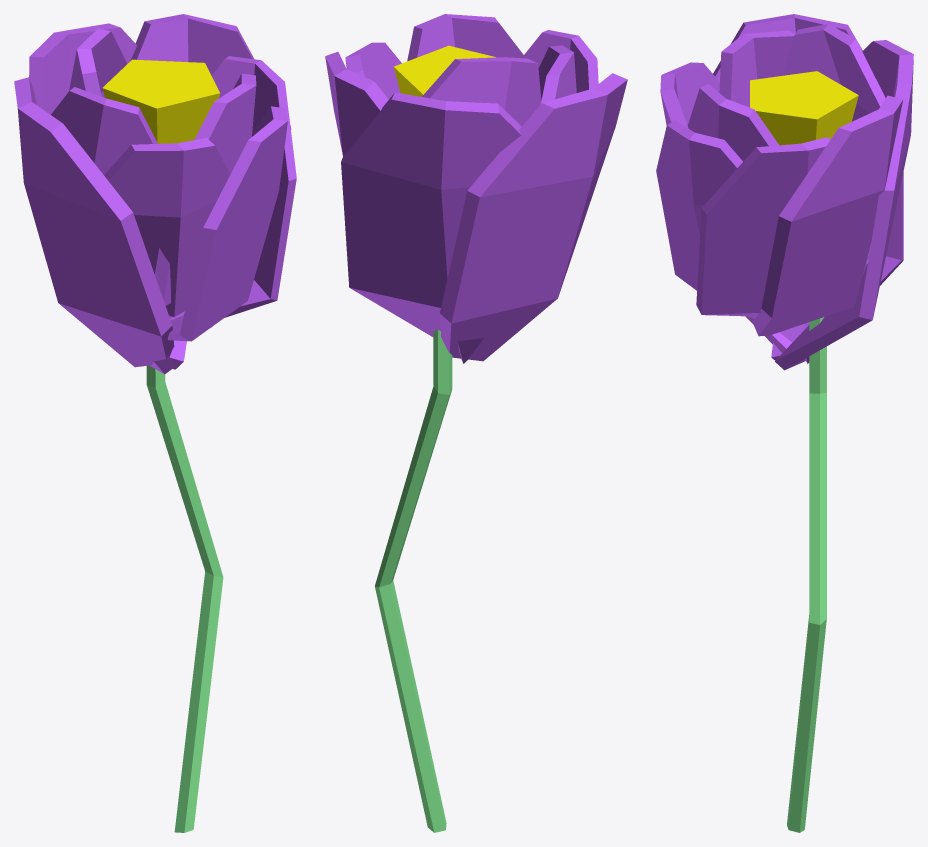
Rendered from Flower 1.fbx.
3 renders of one model, left to right at view 1: azimuth 30°, elevation 25°; view 2: azimuth 150°, elevation 25°; view 3: azimuth 270°, elevation 25°, orthographic. The views are drawn at different scales.
Parts seen in each view (by area): view 1: Flower 1; view 2: Flower 1; view 3: Flower 1.
Part boxes in pixels (x1,y1,x2,y2): Flower 1: (14,14,296,832); Flower 1: (325,14,627,832); Flower 1: (656,14,913,832).
Bounding box in the file's own units: 79.62 × 222 × 67.82.
